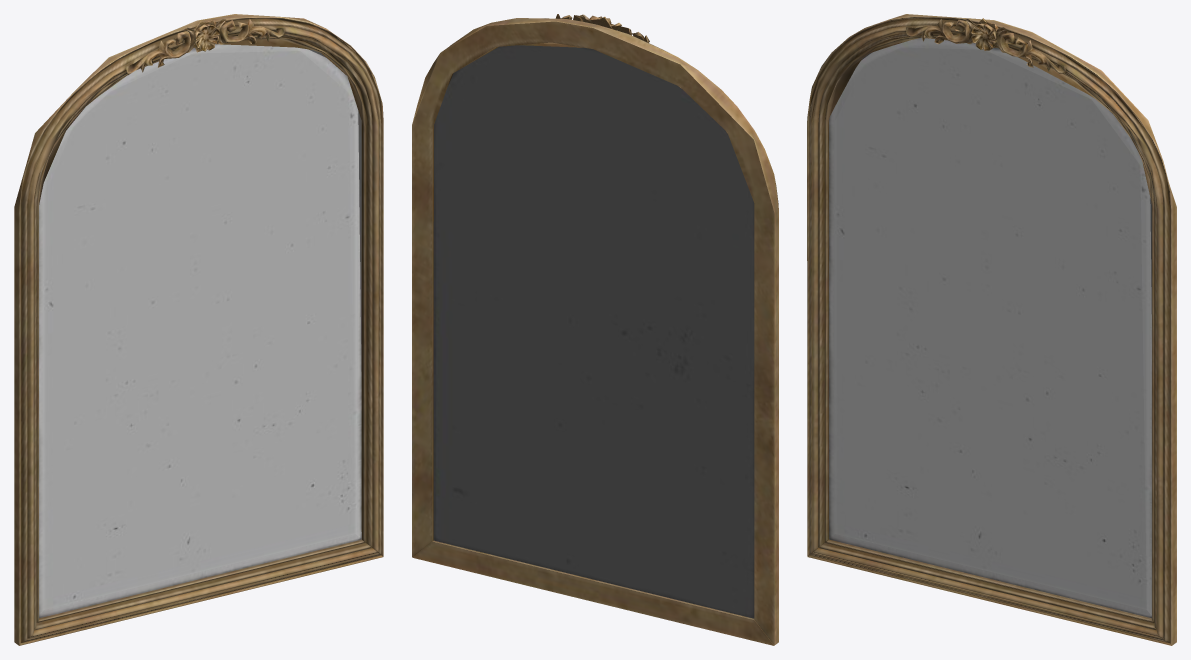
Rendered from ornate_mirror_01.lod1.glb.
3 renders of one model, left to right at view 1: azimuth 30°, elevation 25°; view 2: azimuth 150°, elevation 25°; view 3: azimuth 330°, elevation 25°, orthographic.
Visible parts, largest first — view 1: ornate_mirror_01; view 2: ornate_mirror_01; view 3: ornate_mirror_01.
Boxes of the visible parts, x1,y1,x2,y2 form: ornate_mirror_01: (14, 14, 383, 645); ornate_mirror_01: (412, 14, 778, 645); ornate_mirror_01: (807, 14, 1176, 645).
Bounding box in the file's own units: 0.4865 × 0.7442 × 0.0259.
Materials: 1 (1 with a texture image).
